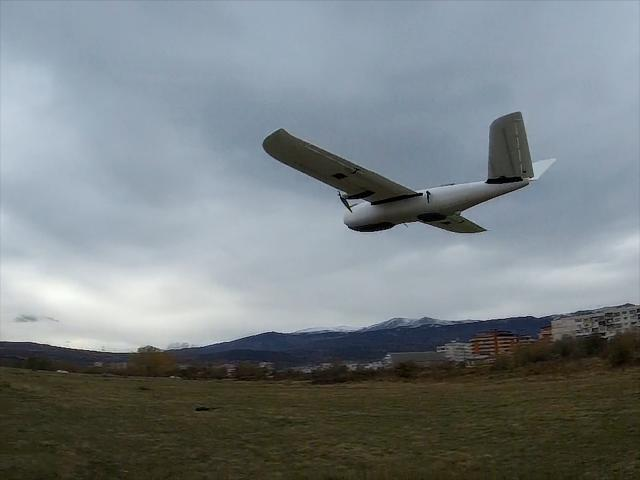plane: (261, 113, 557, 235)
